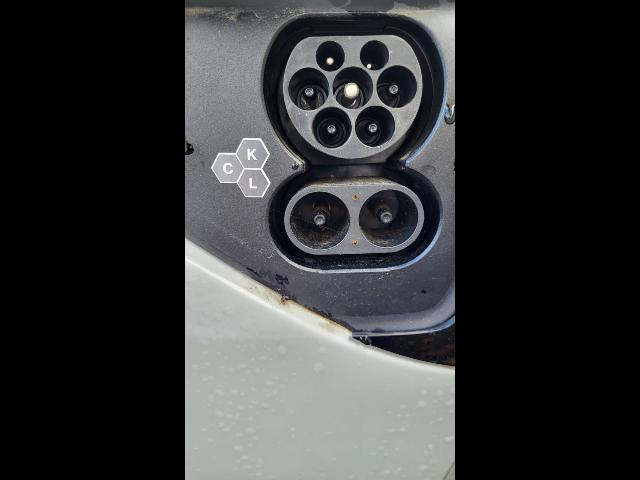inlet: (283, 35, 422, 159)
inlet-above-left: (315, 41, 345, 72)
inlet-above-right: (360, 40, 389, 70)
inlet-below-left: (312, 106, 352, 148)
inlet-below-right: (355, 106, 395, 148)
inlet-circle: (332, 67, 373, 110)
inlet-circle-left: (288, 67, 329, 110)
inlet-circle-right: (376, 65, 417, 108)
inlet-minus: (359, 189, 419, 248)
inlet-plus: (290, 191, 350, 250)
